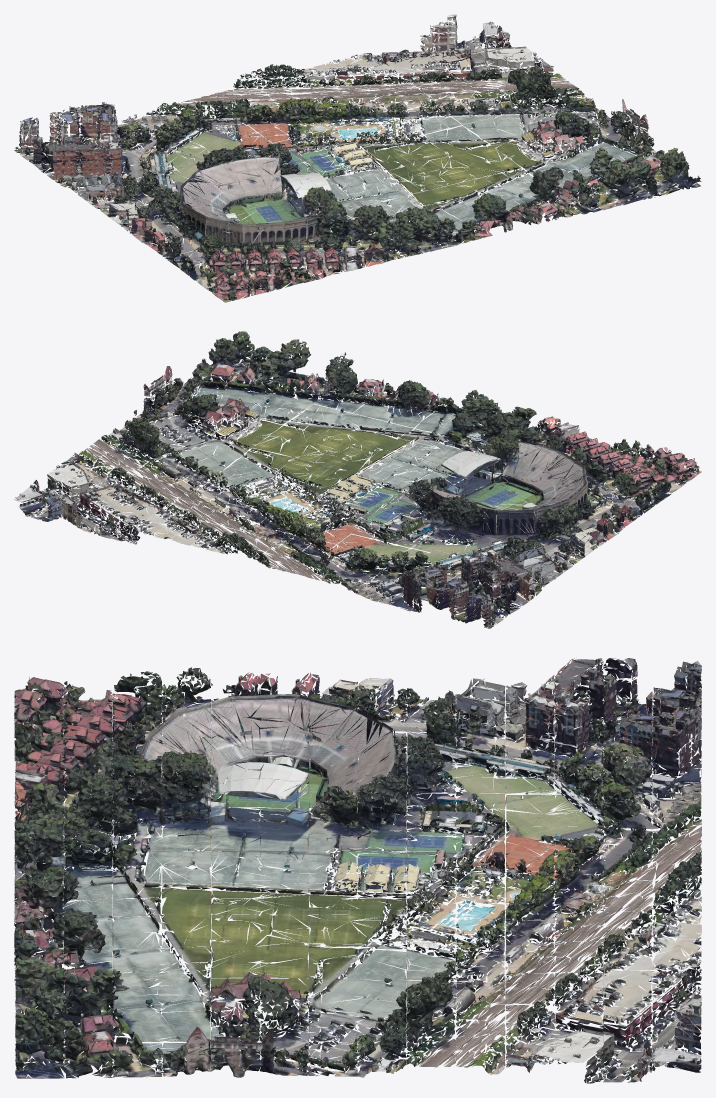
Rendered from tennis.glb.
3 renders of one model, top to bottom at view 1: azimuth 30°, elevation 25°; view 2: azimuth 150°, elevation 25°; view 3: azimuth 270°, elevation 25°, orthographic. The views are drawn at different scales.
Visible parts, largest first — view 1: Object_4; view 2: Object_4; view 3: Object_4.
Boxes of the visible parts, x1,y1,x2,y2 form: Object_4: (14, 14, 701, 302); Object_4: (14, 331, 701, 628); Object_4: (14, 658, 701, 1083).
Bounding box in the file's own units: 349 × 36.89 × 268.
Materials: 1 (1 with a texture image).
